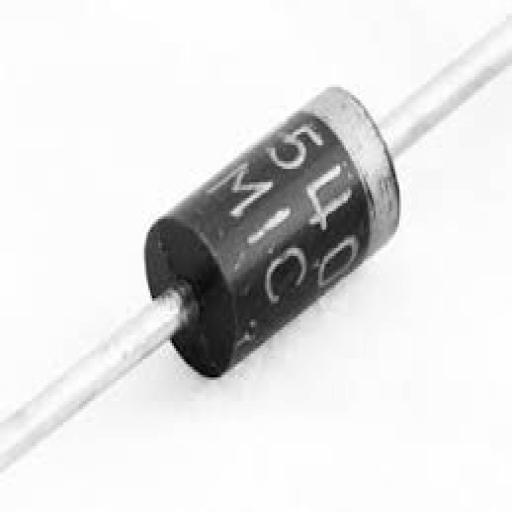DIODE: (0, 0, 510, 494)
